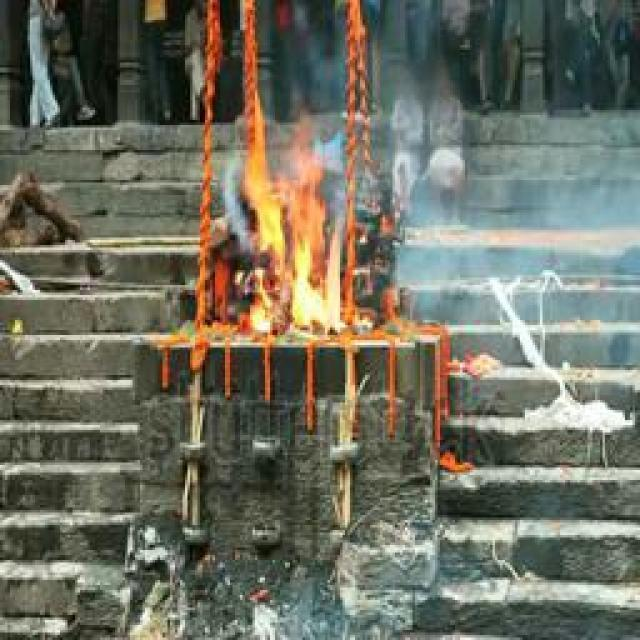Fire: (241, 119, 351, 338)
